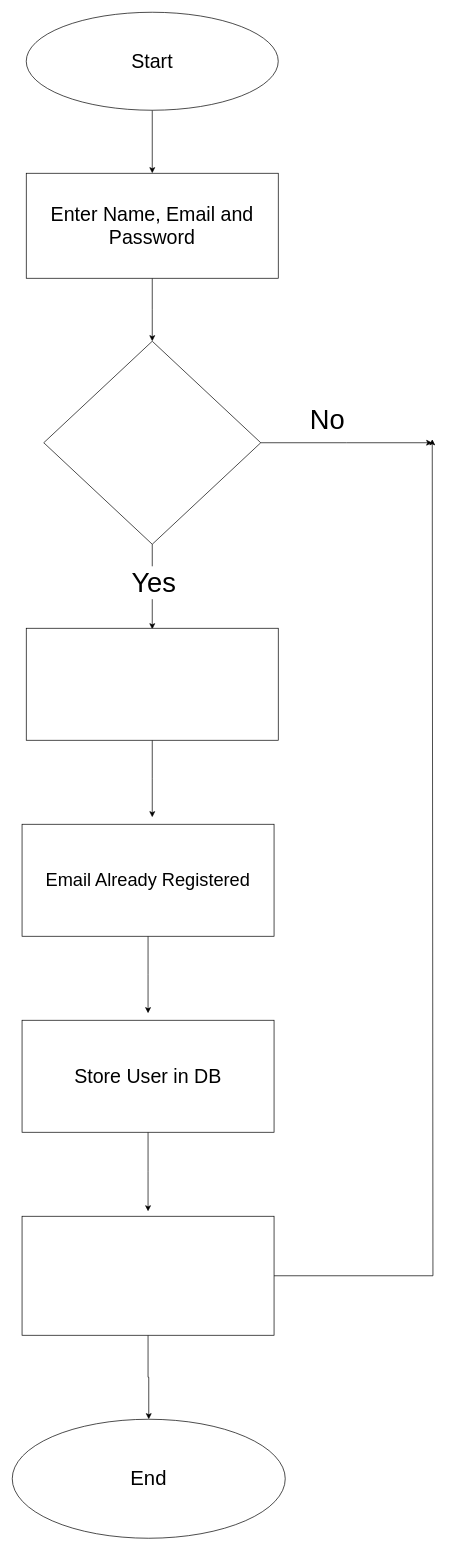
This 451x1551 diagram has some shape labels left out. Here are the shapes that lost their labels. From the top down, the centre of each, then its label:
At point 152,442: "Validate Inputs".
At point 152,684: "Display Error".
At point 147,1275: "Send Confirmation".
